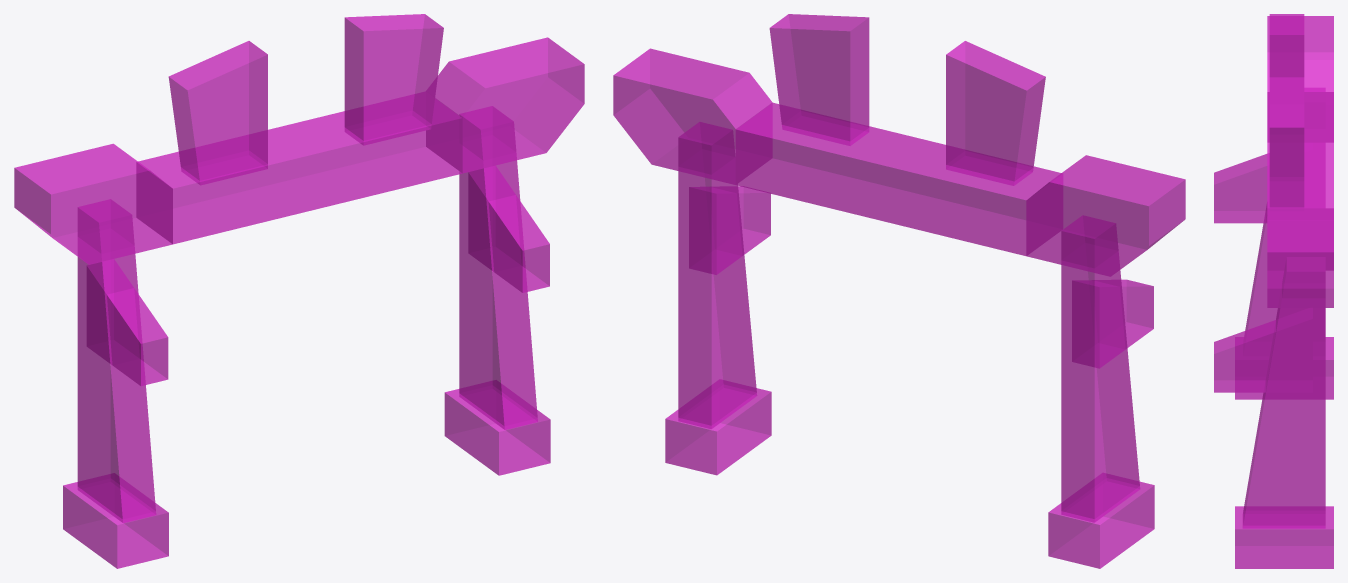
File: SM_Bld_Arch_01_Collision.fbx
3 renders of one model, left to right at view 1: azimuth 30°, elevation 25°; view 2: azimuth 150°, elevation 25°; view 3: azimuth 270°, elevation 25°, orthographic. The views are drawn at different scales.
Visible parts, largest first — view 1: SM_Bld_Arch_01_Collision; view 2: SM_Bld_Arch_01_Collision; view 3: SM_Bld_Arch_01_Collision.
Part boxes in pixels (<box>): SM_Bld_Arch_01_Collision: <box>14,14,584,568</box>; SM_Bld_Arch_01_Collision: <box>613,14,1185,568</box>; SM_Bld_Arch_01_Collision: <box>1214,14,1333,568</box>.
Size of the model in its own units: 798 by 656 by 171.
